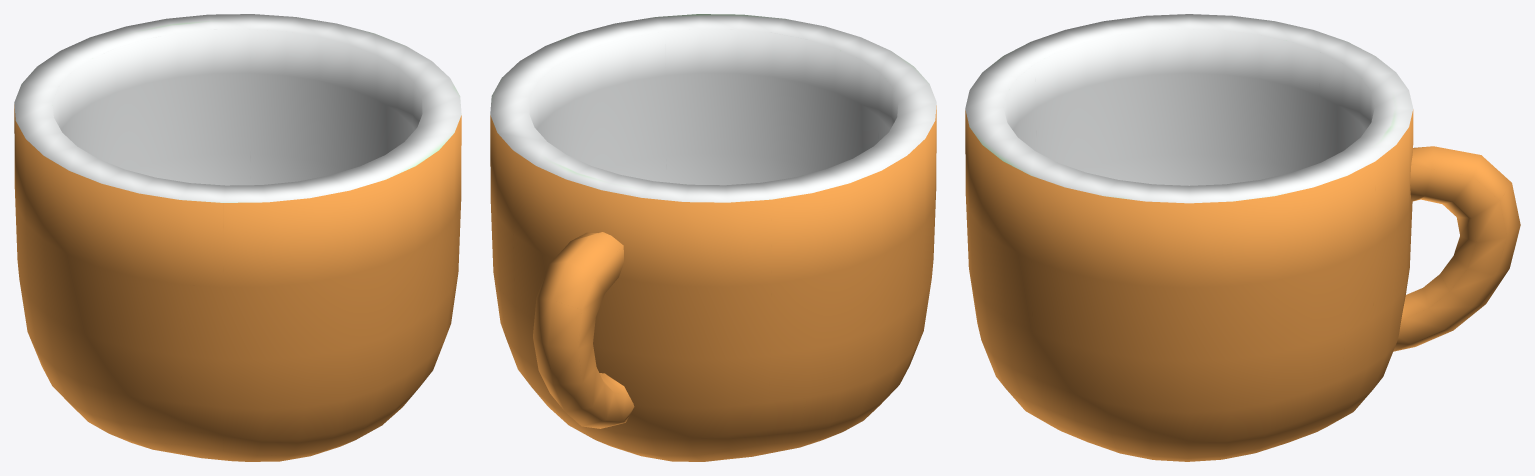
Rendered from cup.fbx.
The picture shows the model from 3 angles, left to right: view 1: azimuth 30°, elevation 25°; view 2: azimuth 150°, elevation 25°; view 3: azimuth 270°, elevation 25°; orthographic projection.
Parts seen in each view (by area): view 1: cup; view 2: cup; view 3: cup.
Boxes of the visible parts, left/top/right/bottom form: cup: left=14, top=14, right=461, bottom=461; cup: left=490, top=14, right=936, bottom=461; cup: left=965, top=14, right=1520, bottom=461.
Bounding box in the file's own units: 338 × 260 × 419.
